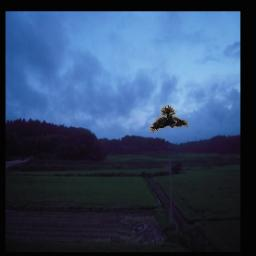Crow: (150, 106, 188, 134)
